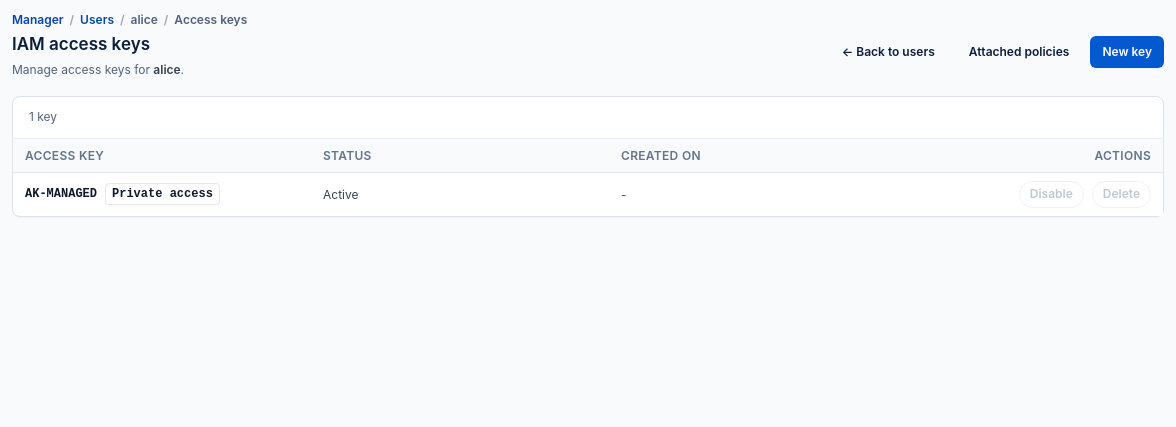
Test: ManagerUserKeysPage › keeps one-time secrets for manual keys but removes Add as S3 Connection
The image size is (1176, 427).
Expected: the text "AK-MANAGED" is shown, [25,186,97,203]
Click the button "New key" at (1127, 52), box [1090,36,1164,68]
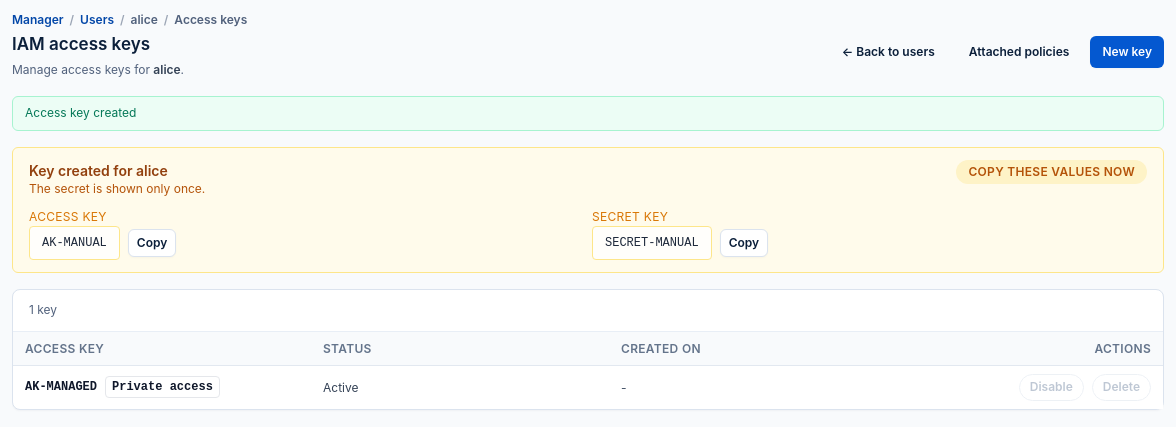
Result: the text "AK-MANUAL" is shown at [29,226,120,260]
Result: the text "SECRET-MANUAL" is shown at [592,226,712,260]
